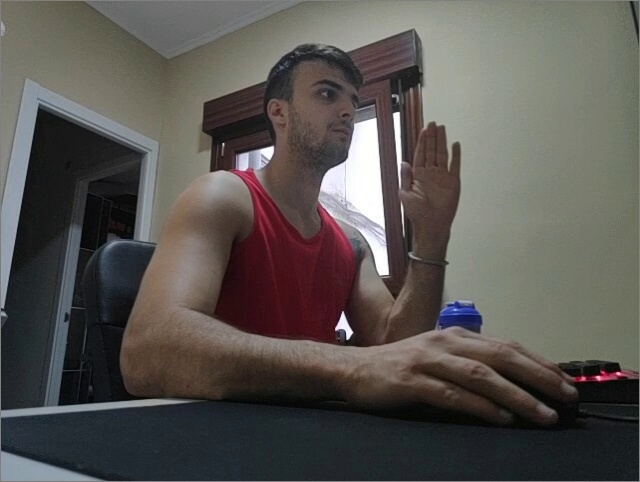Palm: (397, 116, 462, 230)
